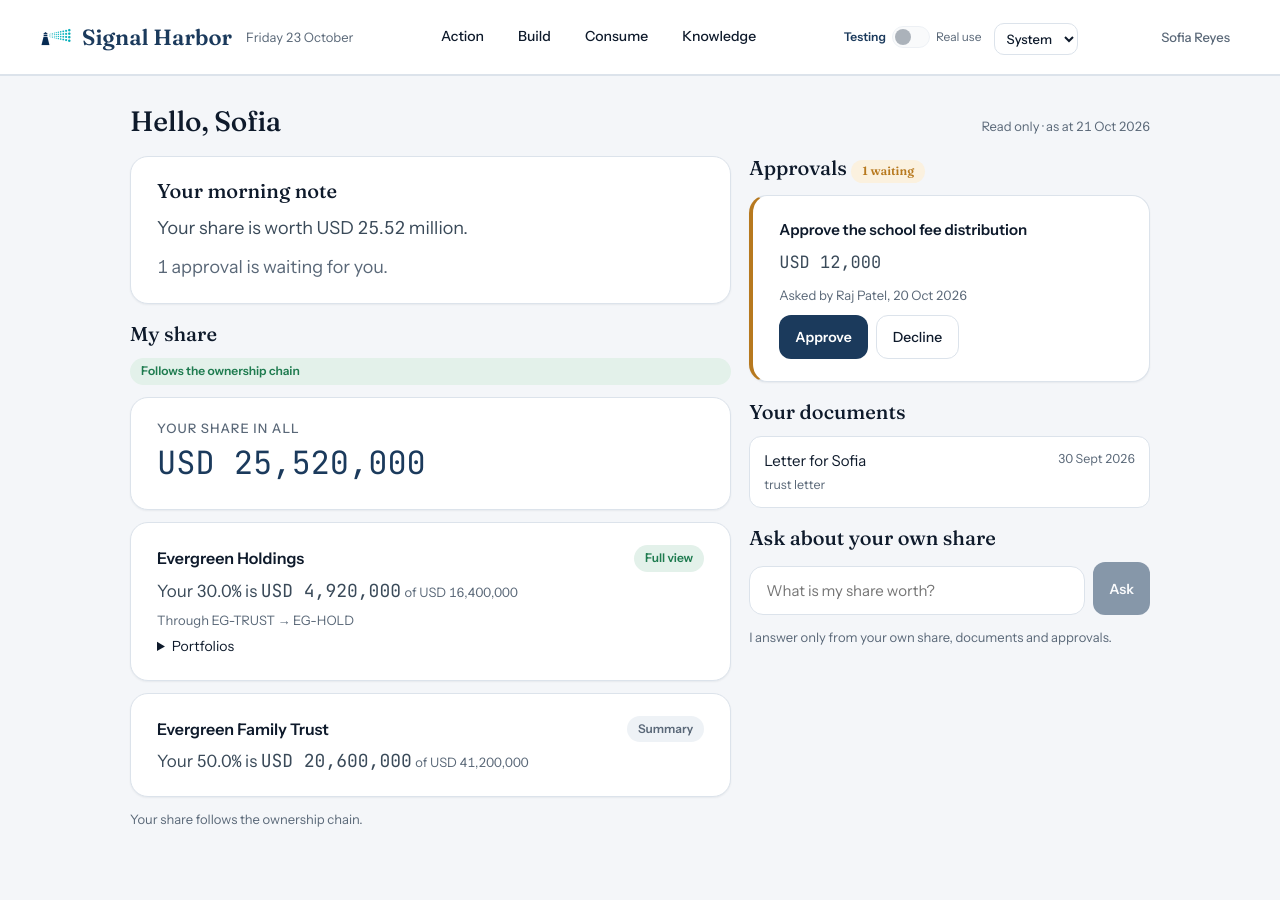
Test: the ask box posts the question and shows the answer
The width and height of the screenshot is (1280, 900).
In the field labelled "Your question": point(917, 591) 749,566 -> 1085,615, type "what is my share worth?"
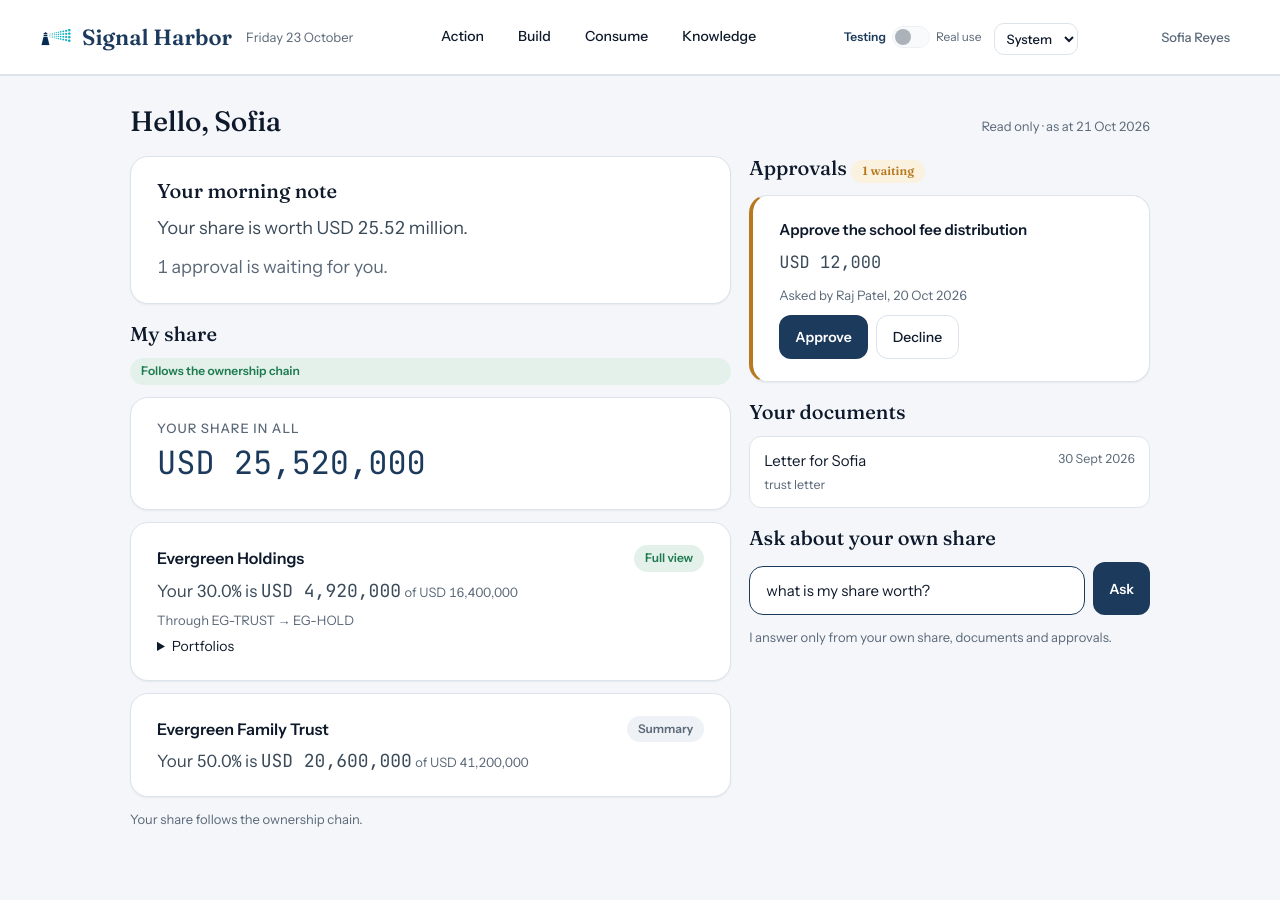
Click the button "Ask": point(1122, 589) 1093,562 -> 1150,615
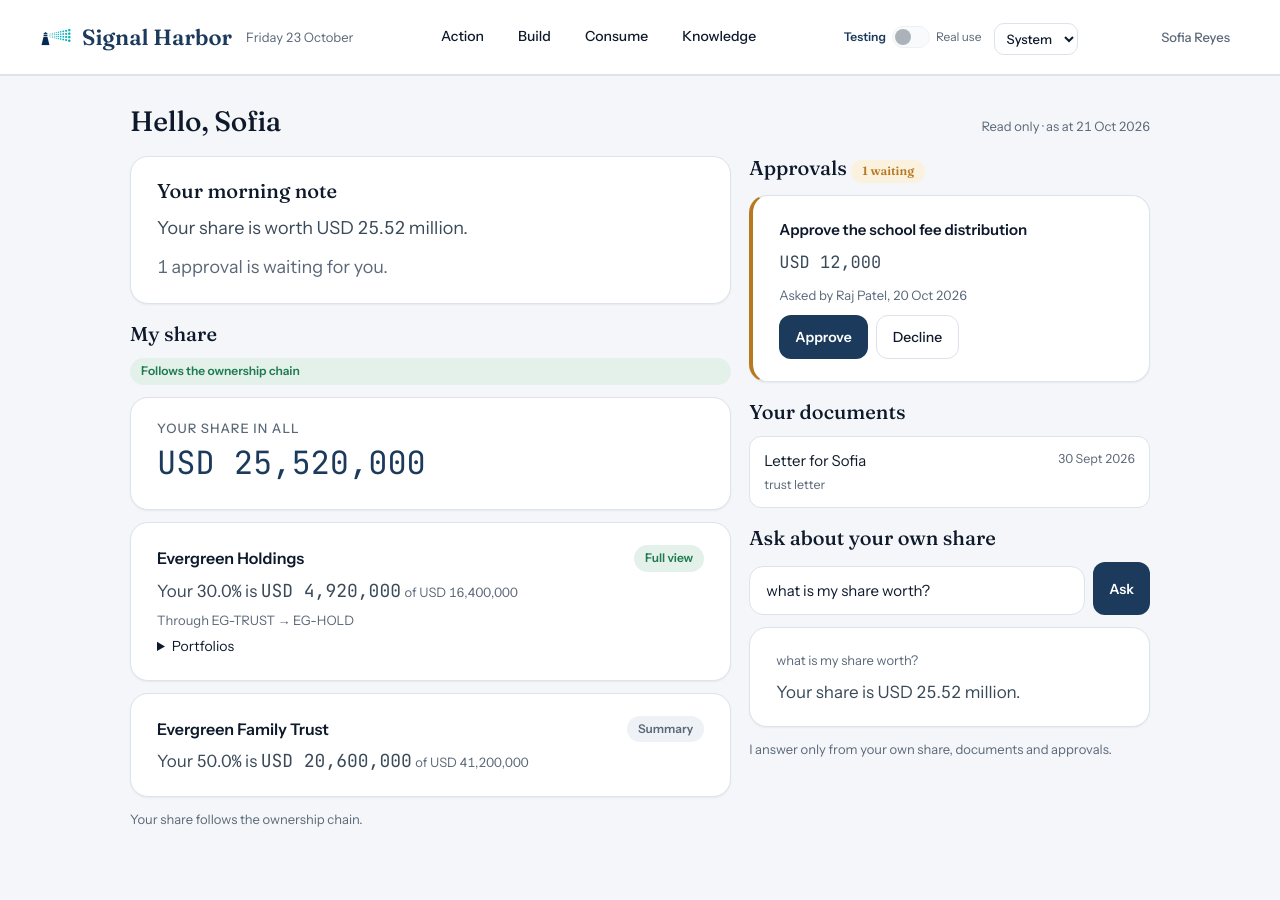
Result: the text "Your share is USD 25.52 million." is shown at 776,682 -> 1020,702
